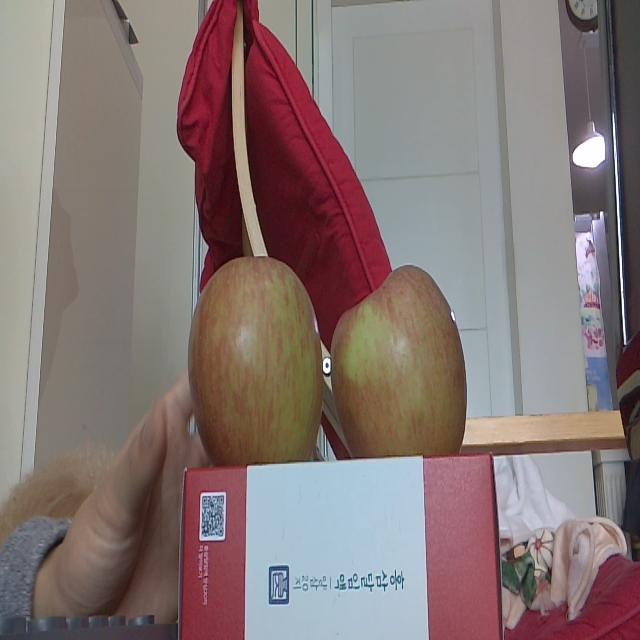apple: (188, 256, 321, 463), (332, 263, 467, 454)
